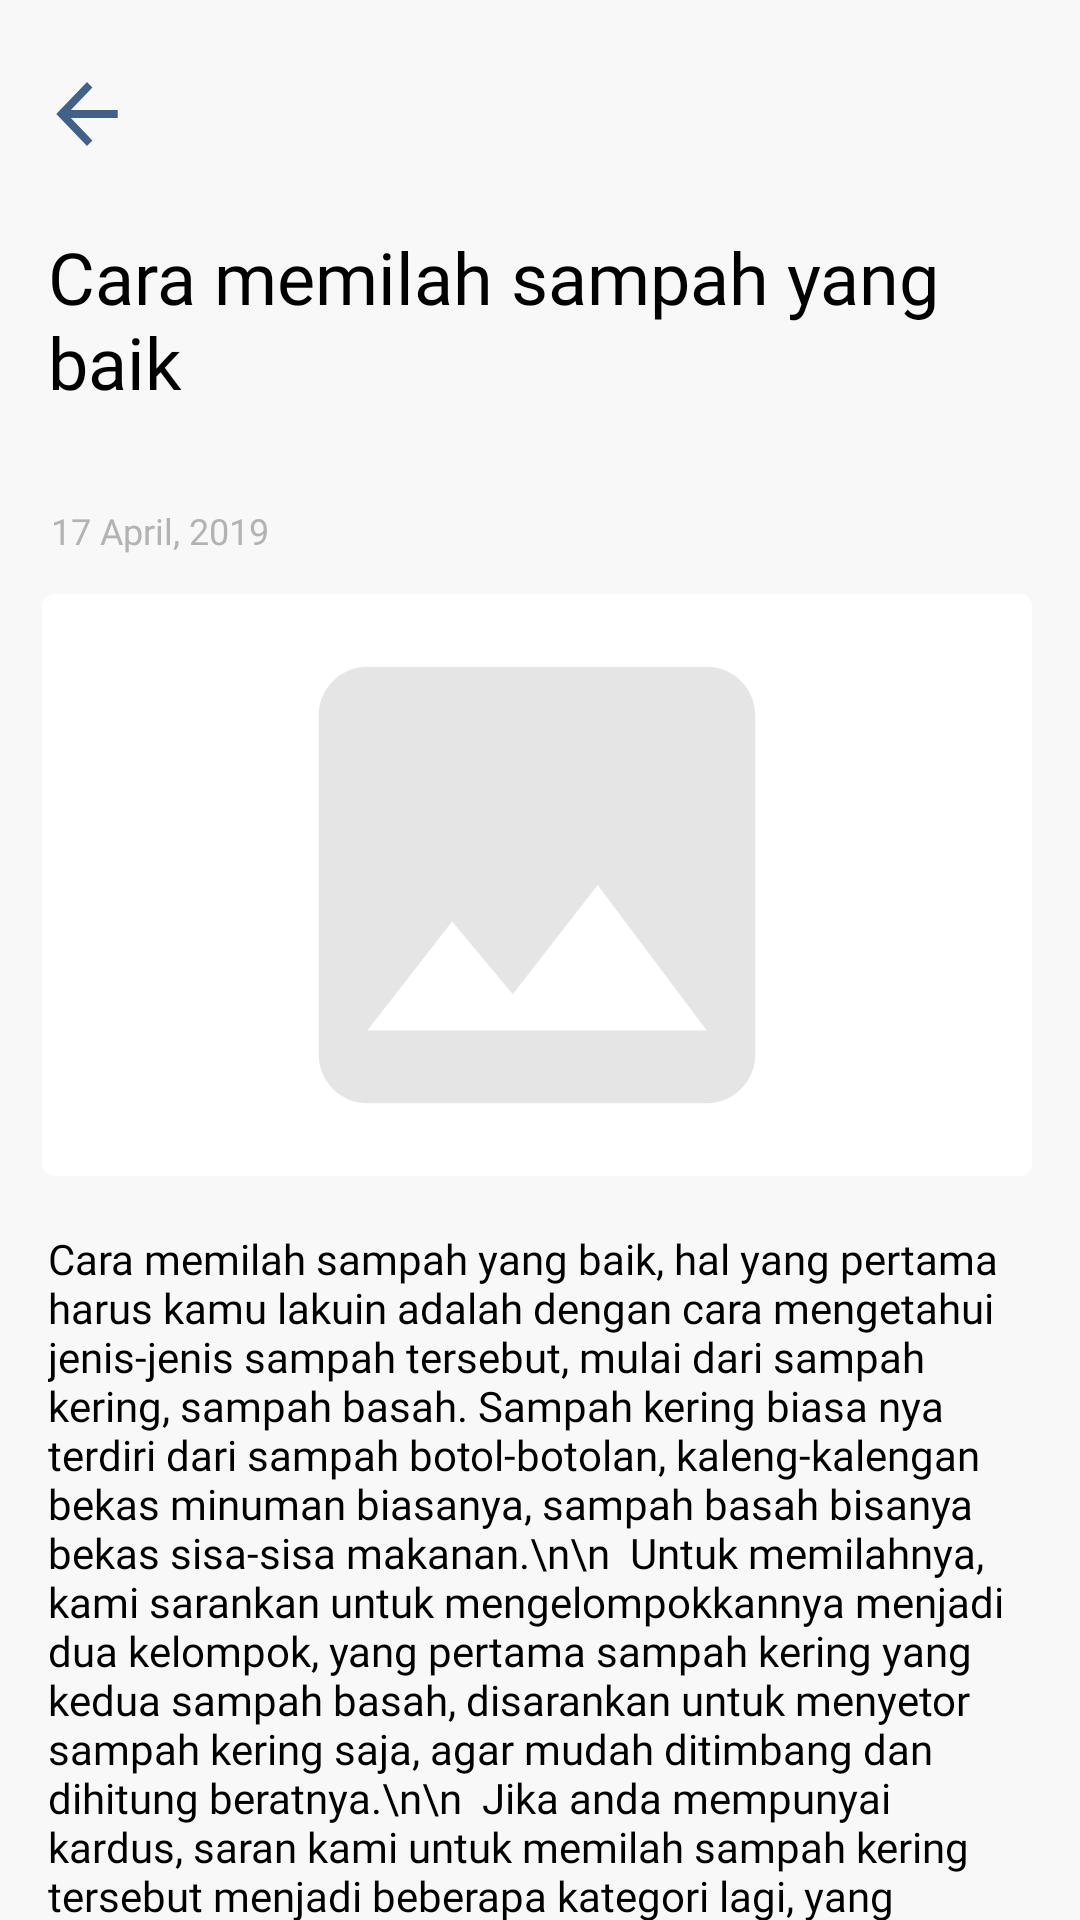

Where to tap for icons on this 1080x1920 app screen, as (x,y):
back: (87,114)
